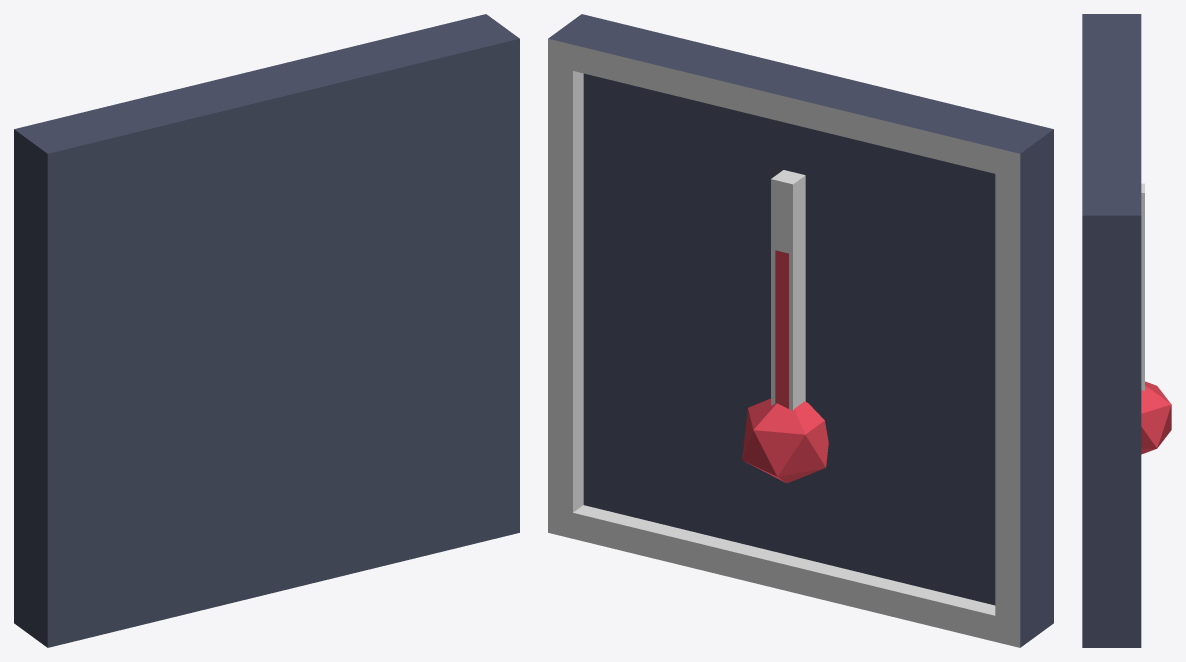
File: temperature.fbx
3 views of the same model, side by side, from view 1: azimuth 30°, elevation 25°; view 2: azimuth 150°, elevation 25°; view 3: azimuth 270°, elevation 25° (orthographic). The views are drawn at different scales.
Parts seen in each view (by area): view 1: Temperature; view 2: Temperature; view 3: Temperature.
Part boxes in pixels (left/top/right/bottom): Temperature: left=14, top=14, right=519, bottom=647; Temperature: left=548, top=14, right=1053, bottom=647; Temperature: left=1082, top=14, right=1171, bottom=647.
Size of the model in its own units: 200 by 200 by 37.37.
